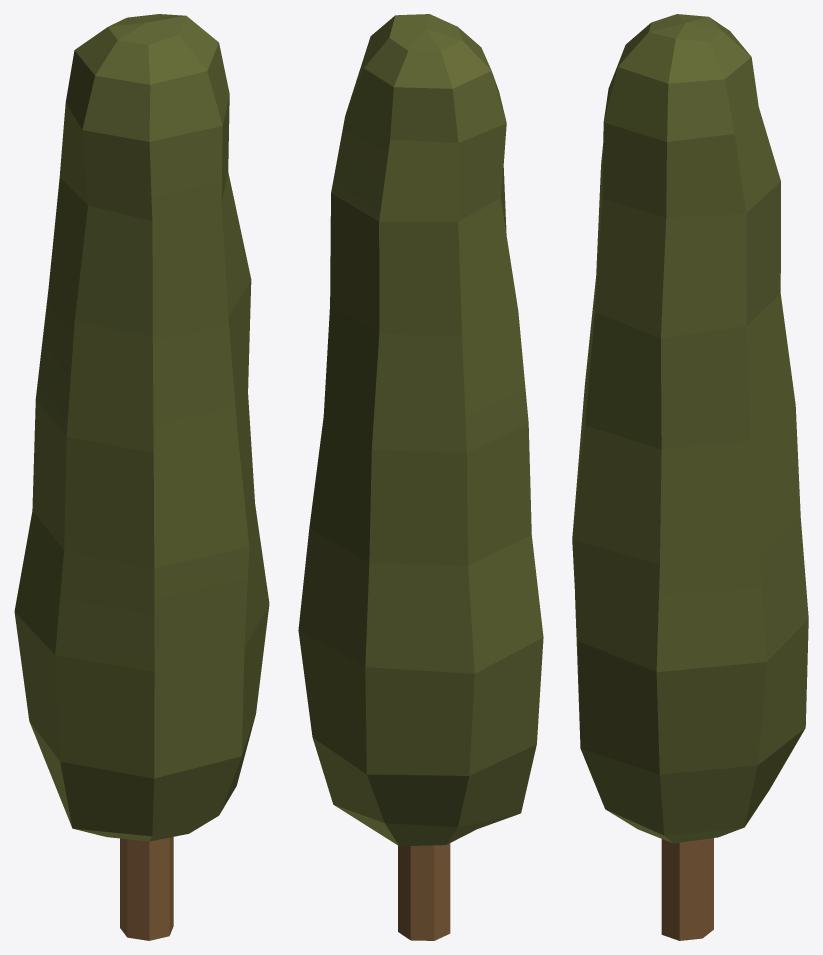
File: tree1.glb
3 views of the same model, side by side, from view 1: azimuth 30°, elevation 25°; view 2: azimuth 150°, elevation 25°; view 3: azimuth 270°, elevation 25° (orthographic).
Bounding box in the file's own units: 0.7181 × 2.92 × 0.6899.
